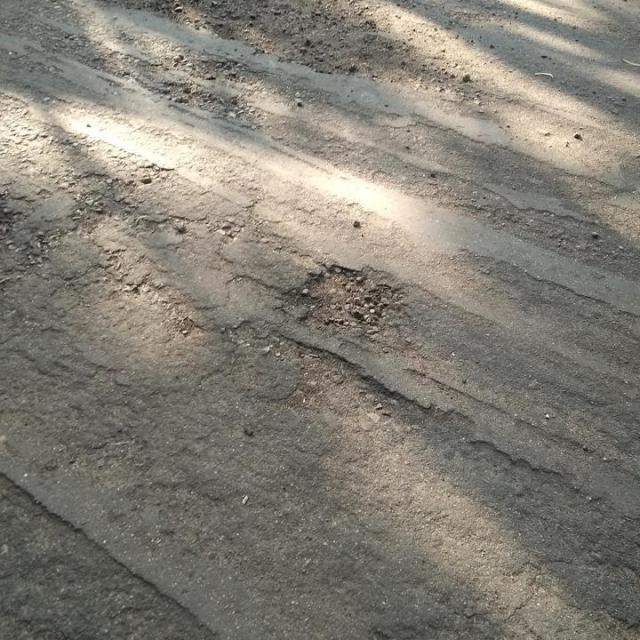pothole: (281, 261, 407, 332), (292, 269, 394, 329)
